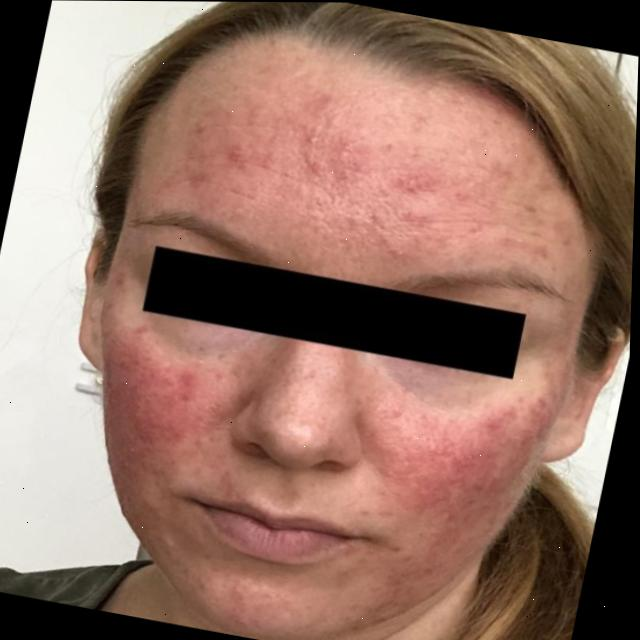Rosacea: (146, 63, 585, 277), (327, 364, 563, 621), (57, 303, 233, 528)
